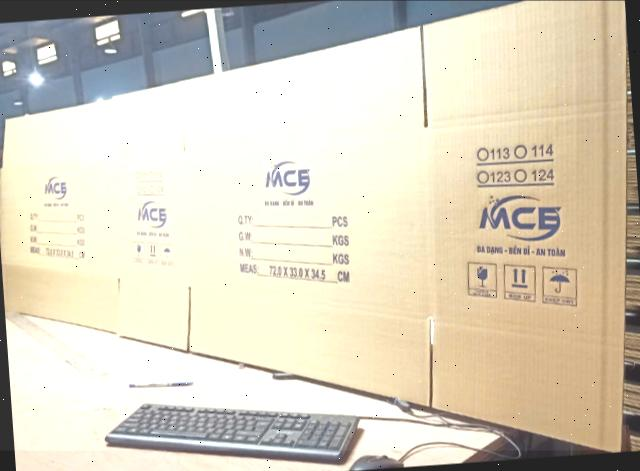box: (0, 0, 626, 450)
